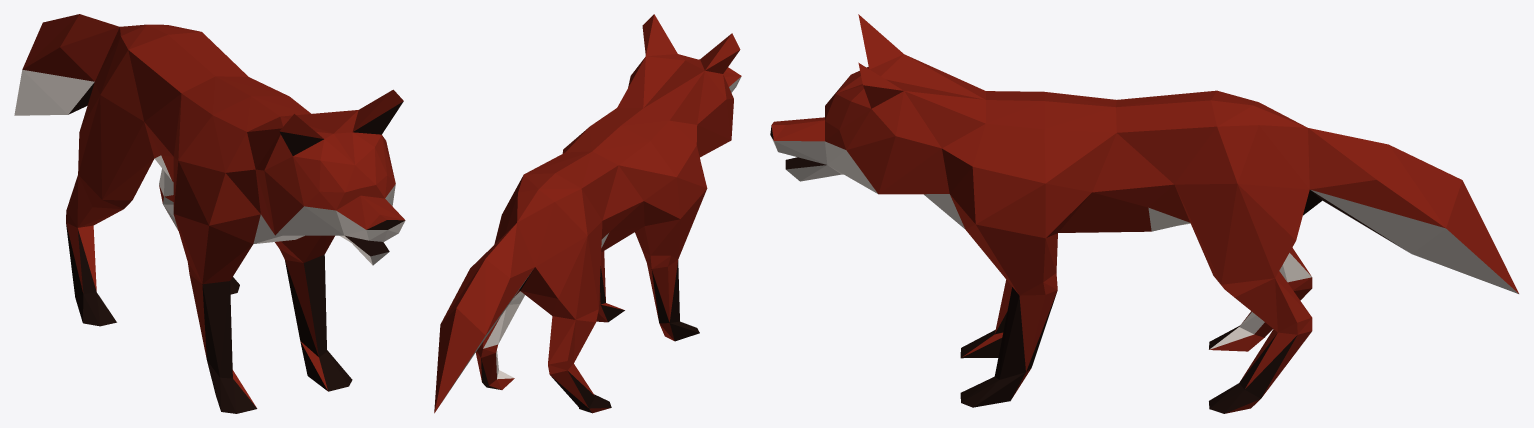
The model's file is Animal_Fox_M4.fbx.
The picture shows the model from 3 angles, left to right: view 1: azimuth 30°, elevation 25°; view 2: azimuth 150°, elevation 25°; view 3: azimuth 270°, elevation 25°; orthographic projection. The views are drawn at different scales.
Visible parts, largest first — view 1: Animal_Fox_M4; view 2: Animal_Fox_M4; view 3: Animal_Fox_M4.
Part boxes in pixels (box(x1,y1,x2,y2)): Animal_Fox_M4: box(14, 14, 405, 413); Animal_Fox_M4: box(434, 14, 741, 413); Animal_Fox_M4: box(770, 14, 1518, 413).
Size of the model in its own units: 57.35 by 117 by 236.
